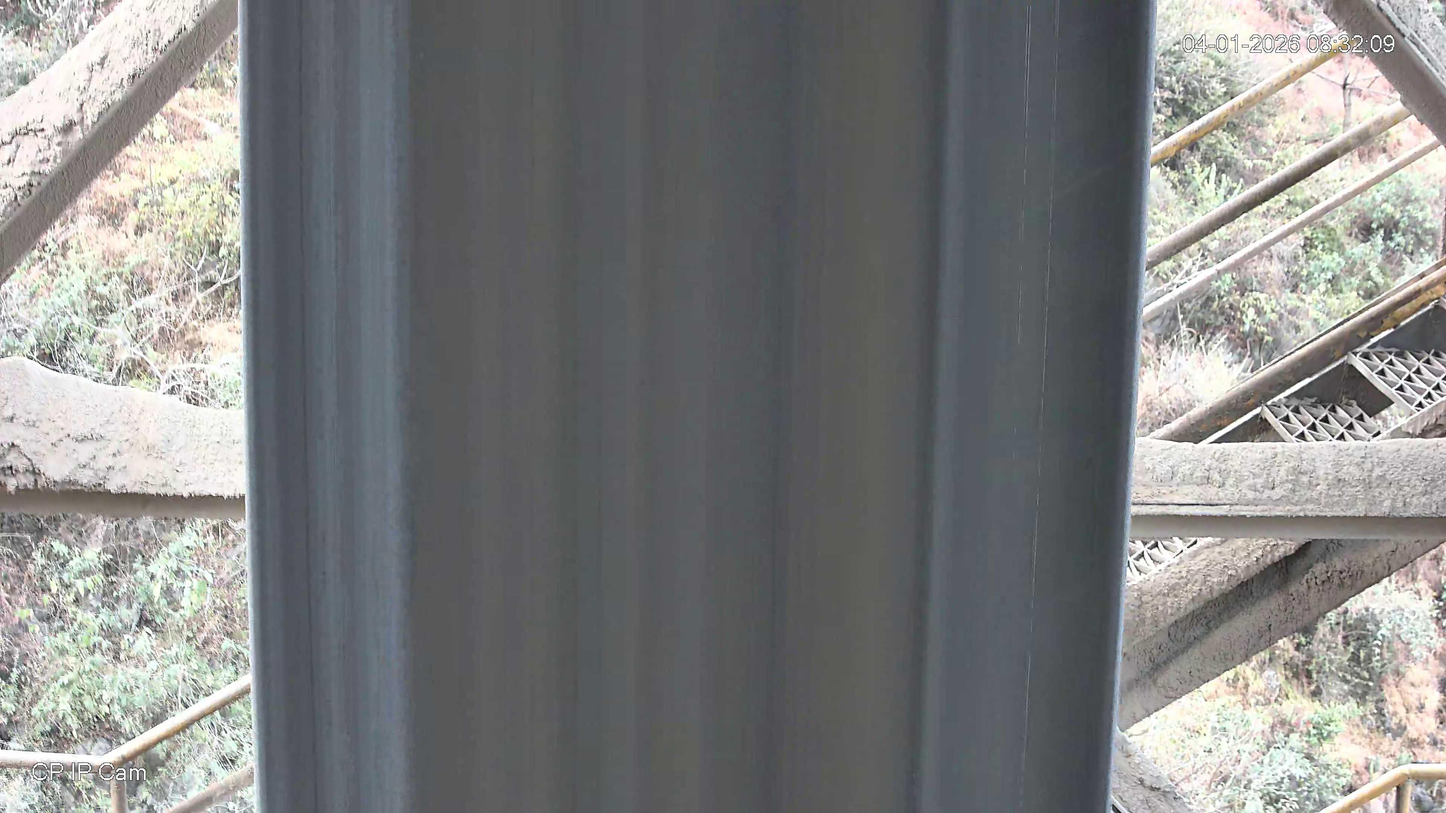belt_roi: (243, 0, 1153, 813)
